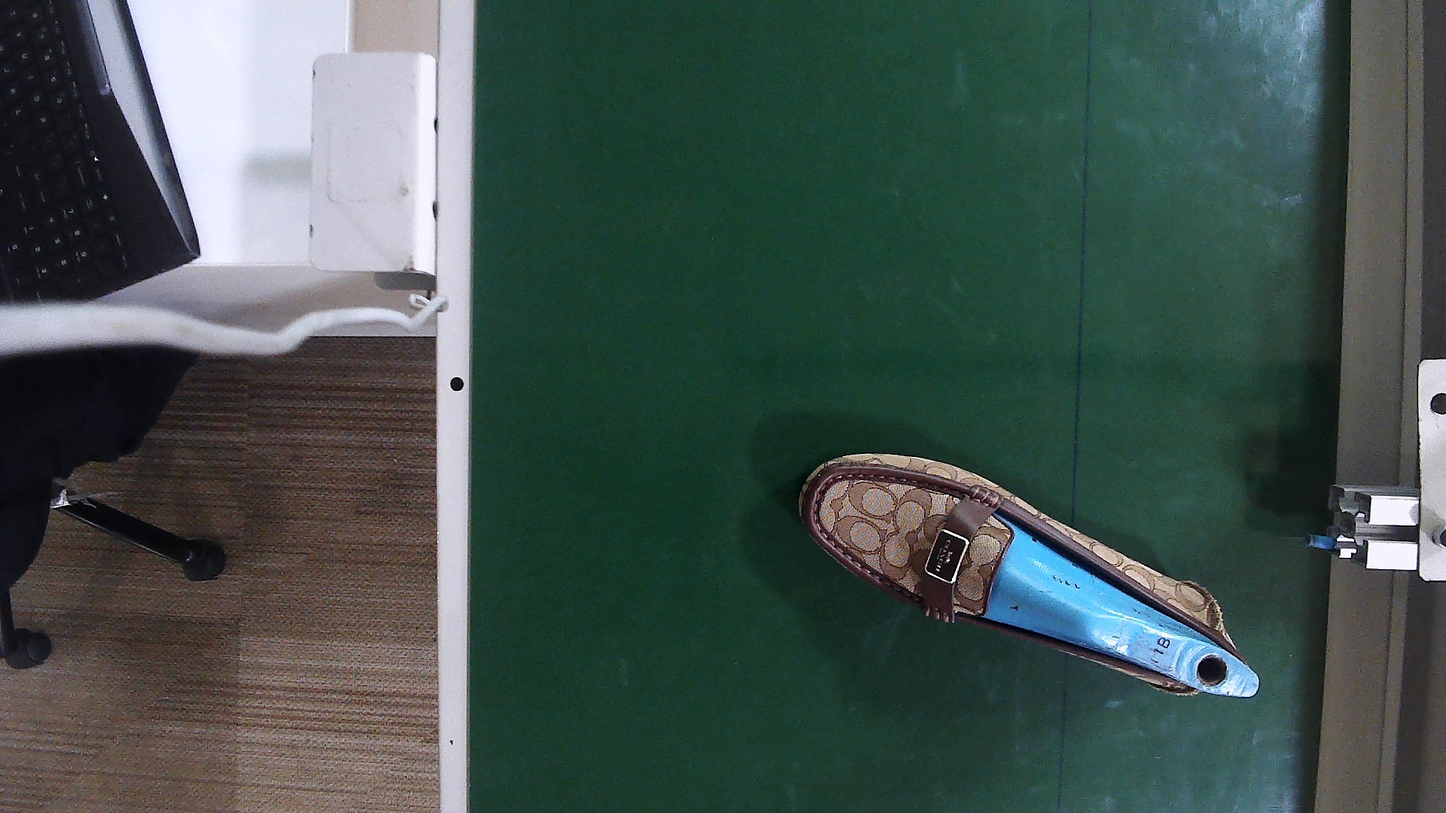shoe: (801, 457, 1258, 696)
